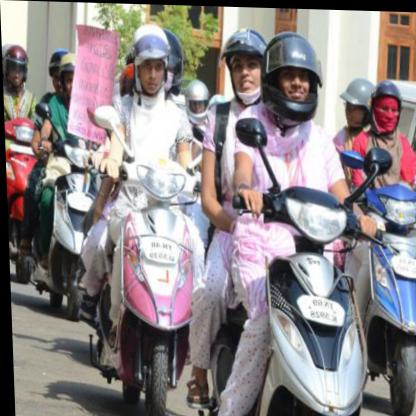With Helmet: (258, 28, 325, 120), (129, 19, 173, 98), (365, 75, 407, 139)
